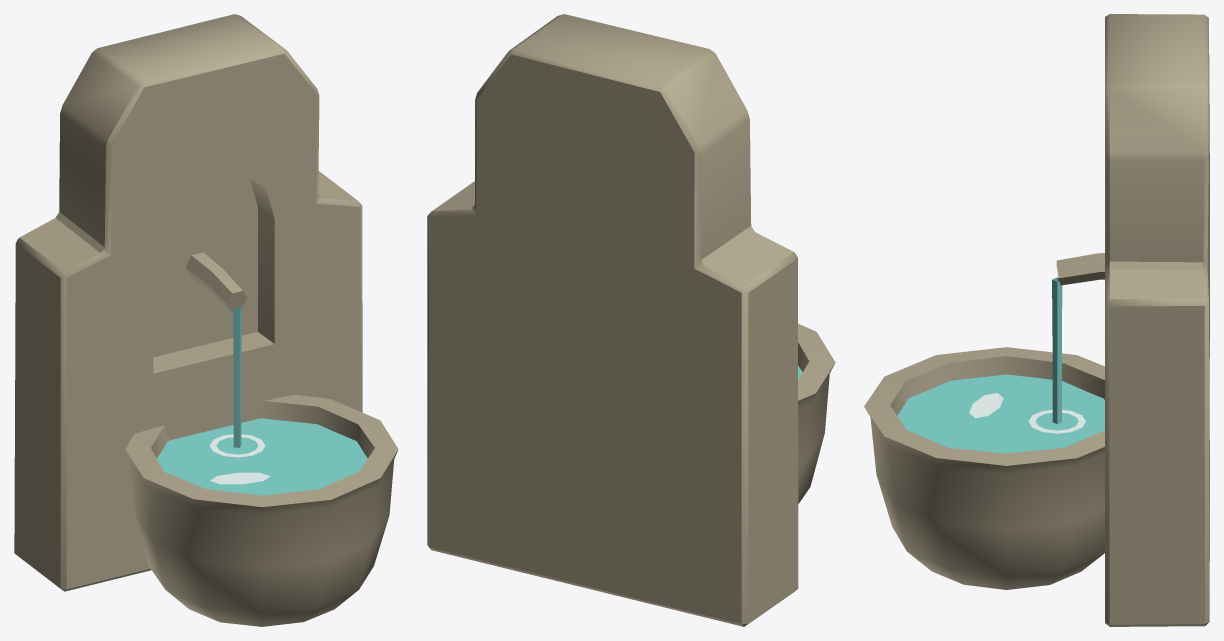
The model's file is shrine-0.glb.
The picture shows the model from 3 angles, left to right: view 1: azimuth 30°, elevation 25°; view 2: azimuth 150°, elevation 25°; view 3: azimuth 270°, elevation 25°; orthographic projection. The views are drawn at different scales.
Parts seen in each view (by area): view 1: shrine-0; view 2: shrine-0; view 3: shrine-0.
Part boxes in pixels (<box>): shrine-0: <box>14,14,398,626</box>; shrine-0: <box>427,14,835,626</box>; shrine-0: <box>864,14,1209,626</box>.
Bounding box in the file's own units: 1.24 × 1.92 × 1.19.
